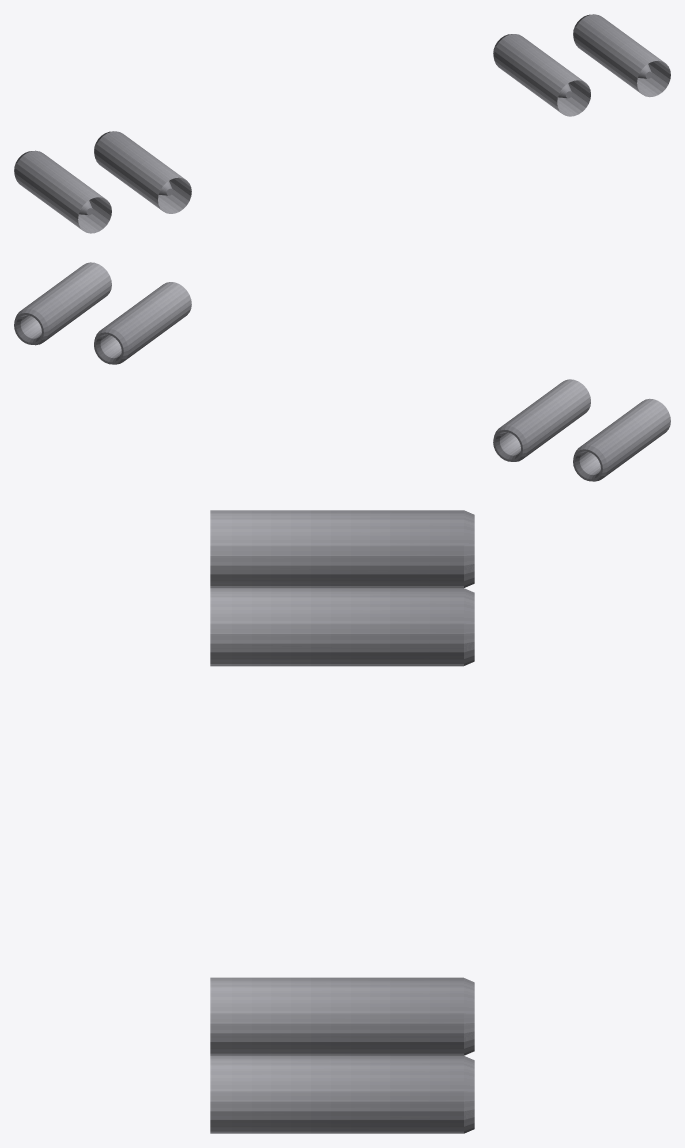
Rendered from exhaust_quad.obj.
3 renders of one model, top to bottom at view 1: azimuth 30°, elevation 25°; view 2: azimuth 150°, elevation 25°; view 3: azimuth 270°, elevation 25°, orthographic. The views are drawn at different scales.
Size of the model in its own units: 1.19 by 0.068 by 0.2293.
1 material, 1 textured.
